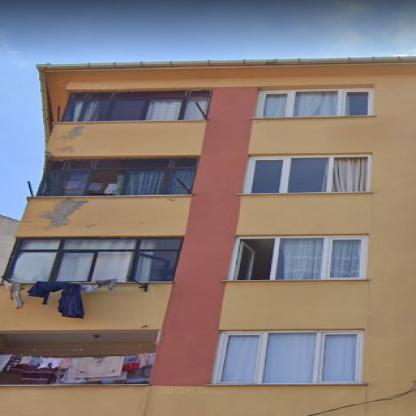window: (5, 237, 178, 282), (220, 331, 358, 381), (38, 160, 195, 193), (232, 237, 360, 277), (63, 91, 206, 122), (246, 158, 368, 190), (263, 87, 368, 116)
